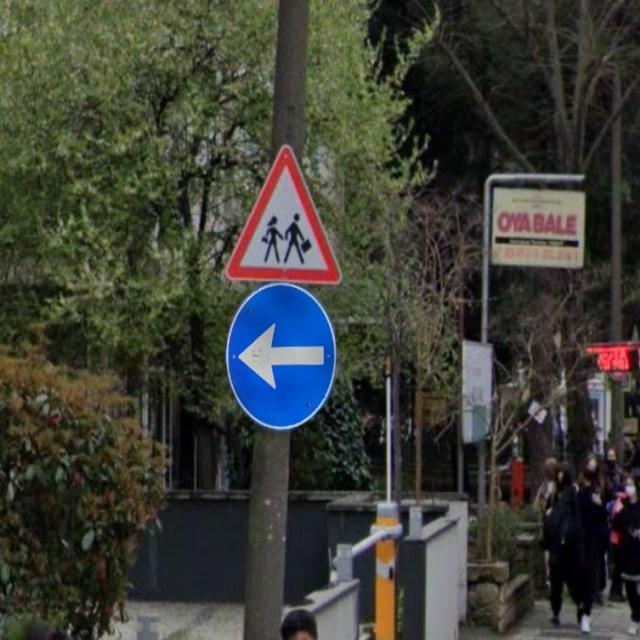Turn Left: (225, 286, 336, 428)
